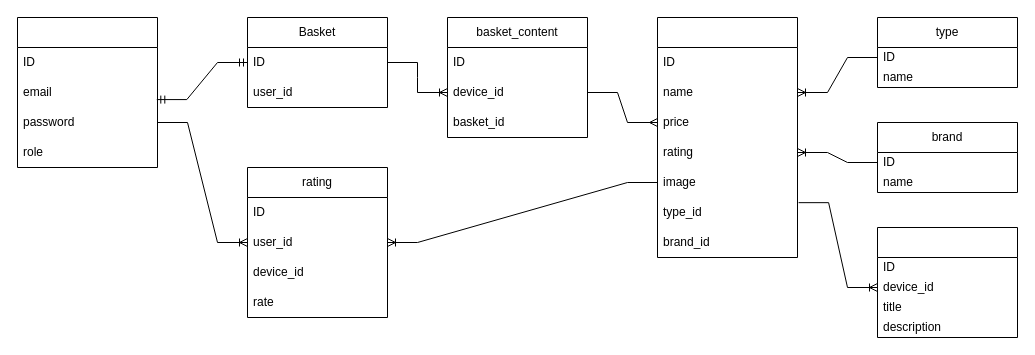
Some shapes in this 1035 by 355 pixel diagram are drawn without their labels. The shapes that lost their labels are listed below. From the top down, each one's box as (x1, y1, x2, y2) in pixels, then its label:
(16, 16, 158, 168): User
(656, 16, 798, 258): device
(876, 226, 1018, 338): device_info
